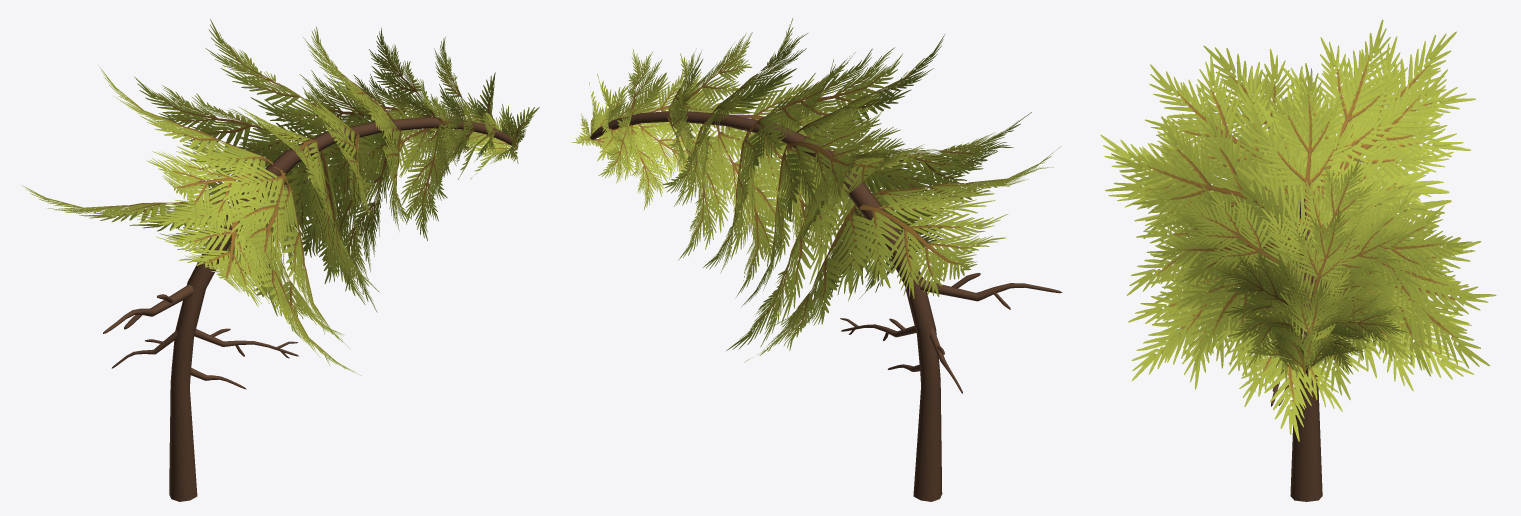
The model's file is PineTree_4.glb.
3 views of the same model, side by side, from view 1: azimuth 30°, elevation 25°; view 2: azimuth 150°, elevation 25°; view 3: azimuth 270°, elevation 25° (orthographic). The views are drawn at different scales.
Visible parts, largest first — view 1: PineTree_4; view 2: PineTree_4; view 3: PineTree_4.
Part boxes in pixels (x1=…): PineTree_4: x1=22, y1=19, x2=539, y2=501; PineTree_4: x1=571, y1=18, x2=1062, y2=501; PineTree_4: x1=1100, y1=19, x2=1496, y2=501.
Bounding box in the file's own units: 4.84 × 4.48 × 3.25.
2 materials, 1 textured.
